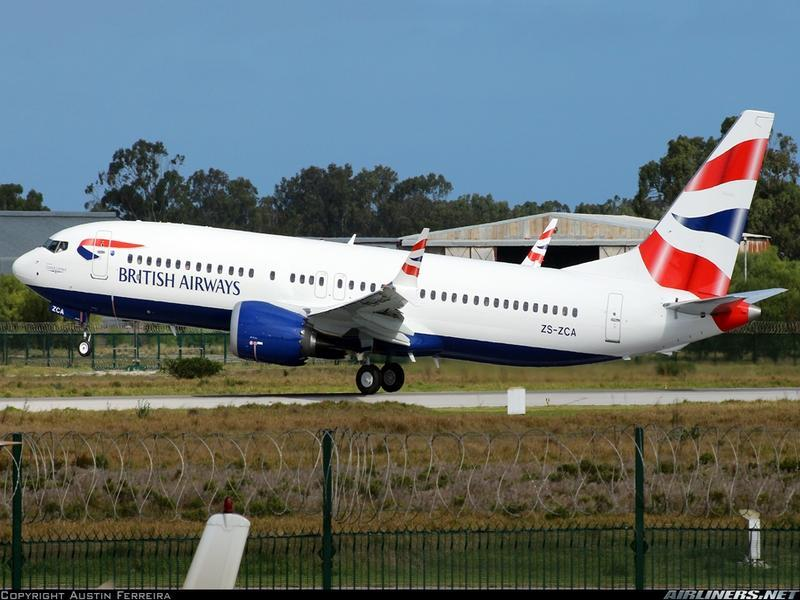737-MAX: (11, 106, 789, 396)
